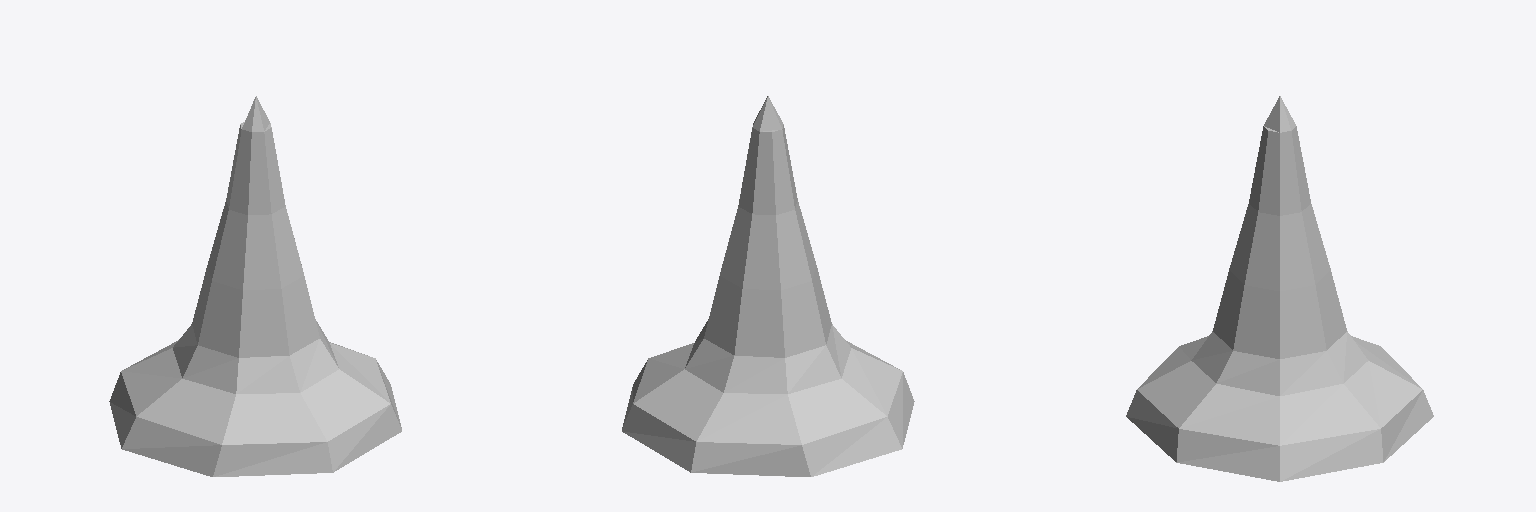
File: singlemite.obj
3 renders of one model, left to right at view 1: azimuth 30°, elevation 25°; view 2: azimuth 150°, elevation 25°; view 3: azimuth 270°, elevation 25°, orthographic.
Parts seen in each view (by area): view 1: pCube4; view 2: pCube4; view 3: pCube4.
Part boxes in pixels (x1,y1,x2,y2): pCube4: (109,96,401,476); pCube4: (622,96,914,476); pCube4: (1126,96,1433,481).
Size of the model in its own units: 1.84 by 2.1 by 1.83.